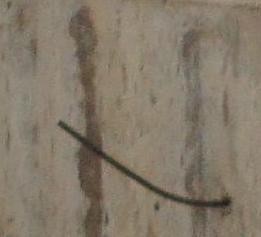Exposed reinforcement: (56, 119, 231, 209)
